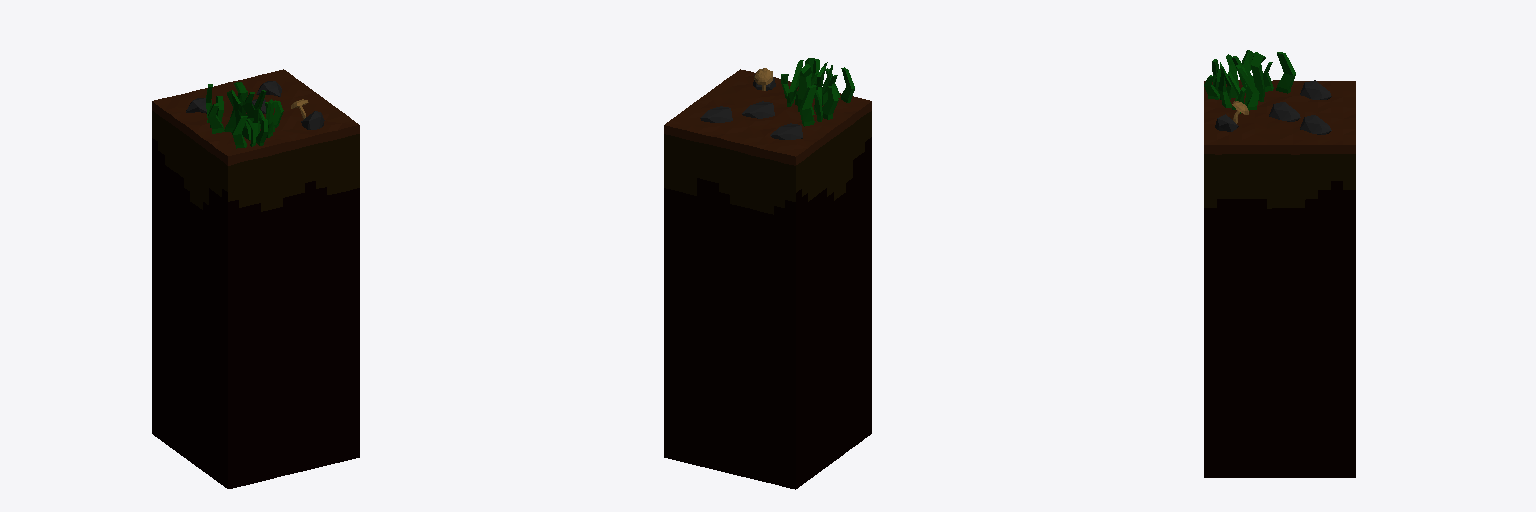
File: tierra2.obj
3 views of the same model, side by side, from view 1: azimuth 30°, elevation 25°; view 2: azimuth 150°, elevation 25°; view 3: azimuth 270°, elevation 25° (orthographic).
Parts seen in each view (by area): view 1: Cube.085, Cube.087; view 2: Cube.085, Cube.087; view 3: Cube.085, Cube.087.
Part boxes in pixels (left/top/right/bottom): Cube.085: left=152, top=69, right=359, bottom=488; Cube.087: left=206, top=82, right=283, bottom=148; Cube.085: left=664, top=69, right=871, bottom=489; Cube.087: left=781, top=58, right=854, bottom=126; Cube.085: left=1204, top=80, right=1355, bottom=477; Cube.087: left=1204, top=50, right=1295, bottom=113.
Bounding box in the file's own units: 19.41 × 53.48 × 19.44.